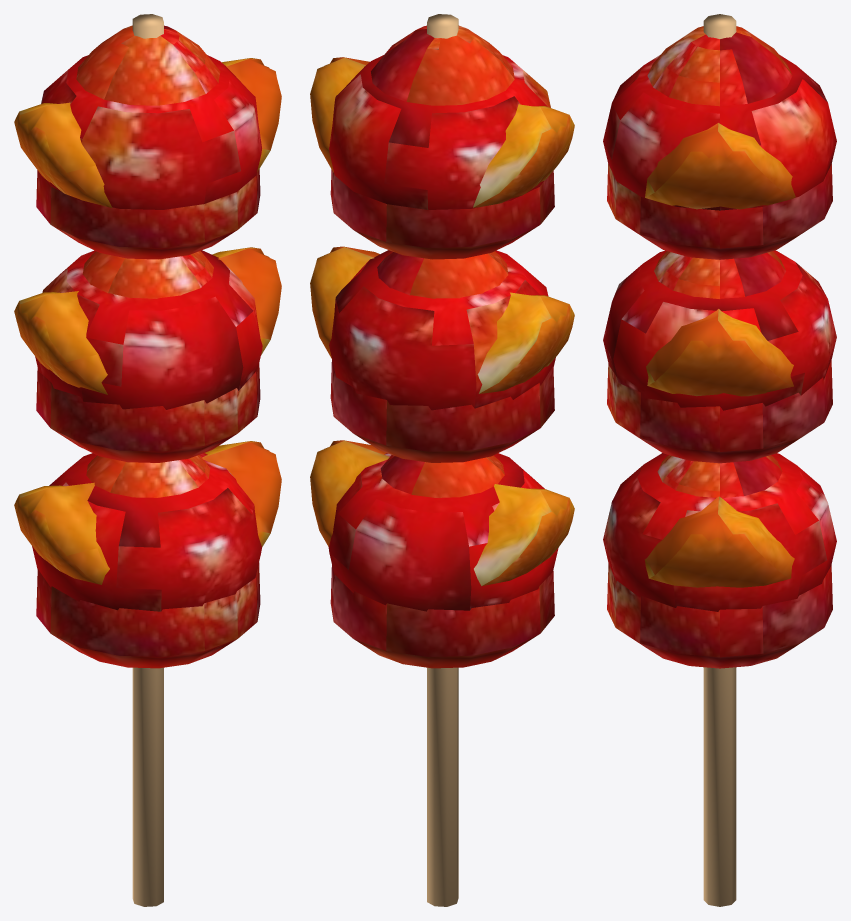
File: tiramysu-tanghulu.glb
The picture shows the model from 3 angles, left to right: view 1: azimuth 30°, elevation 25°; view 2: azimuth 150°, elevation 25°; view 3: azimuth 270°, elevation 25°; orthographic projection.
Visible parts, largest first — view 1: Hawthorne.001, Hawthorne.002, Hawthorne, Strawberry, Strawberry.001, Strawberry.002, Orange.002, Orange.001, Cylinder, Orange; view 2: Hawthorne.001, Hawthorne.002, Hawthorne, Strawberry, Strawberry.001, Strawberry.002, Orange.002, Orange.001, Orange, Cylinder; view 3: Strawberry, Hawthorne.002, Hawthorne.001, Strawberry.001, Strawberry.002, Hawthorne, Orange.002, Orange, Orange.001, Cylinder.
Part boxes in pixels (<box>): Hawthorne.001: <box>35,250,262,409</box>; Hawthorne.002: <box>32,453,261,611</box>; Hawthorne: <box>41,55,261,209</box>; Strawberry: <box>36,25,260,259</box>; Strawberry.001: <box>36,251,260,462</box>; Strawberry.002: <box>36,455,260,668</box>; Orange.002: <box>14,441,281,584</box>; Orange.001: <box>14,247,281,394</box>; Cylinder: <box>132,14,163,906</box>; Orange: <box>14,58,281,207</box>; Hawthorne.001: <box>329,250,555,410</box>; Hawthorne.002: <box>328,453,558,611</box>; Hawthorne: <box>329,55,550,209</box>; Strawberry: <box>330,25,554,259</box>; Strawberry.001: <box>330,251,554,462</box>; Strawberry.002: <box>330,455,554,668</box>; Orange.002: <box>310,440,574,585</box>; Orange.001: <box>310,246,574,393</box>; Orange: <box>310,57,574,207</box>; Cylinder: <box>427,14,458,906</box>; Strawberry: <box>607,26,832,259</box>; Hawthorne.002: <box>603,453,836,611</box>; Hawthorne.001: <box>603,250,836,410</box>; Strawberry.001: <box>607,251,832,463</box>; Strawberry.002: <box>607,455,832,668</box>; Hawthorne: <box>603,54,836,210</box>; Orange.002: <box>644,496,794,587</box>; Orange: <box>645,123,795,209</box>; Orange.001: <box>646,309,793,396</box>; Cylinder: <box>703,14,736,906</box>.
Size of the model in its own units: 1.19 by 4.15 by 1.
Materials: 3 (3 with a texture image).
